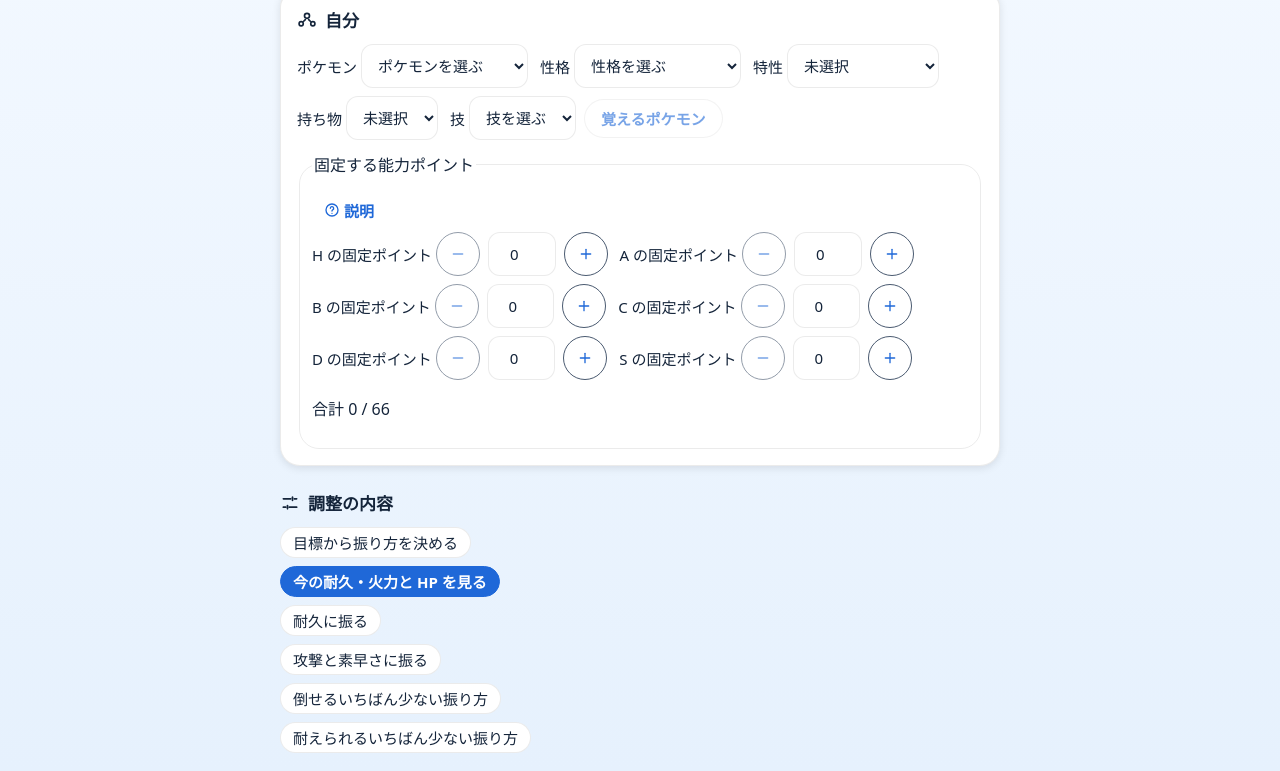
Test: G3 送信前の検査(API を呼ばず role=alert で理由) › 自分のポケモン・性格の検査は従来どおり先に出る
The image size is (1280, 771).
Click the radio button labelled "目標から振り方を決める" at x=376, y=542, box 280,527 -> 471,558
(page scrolled)
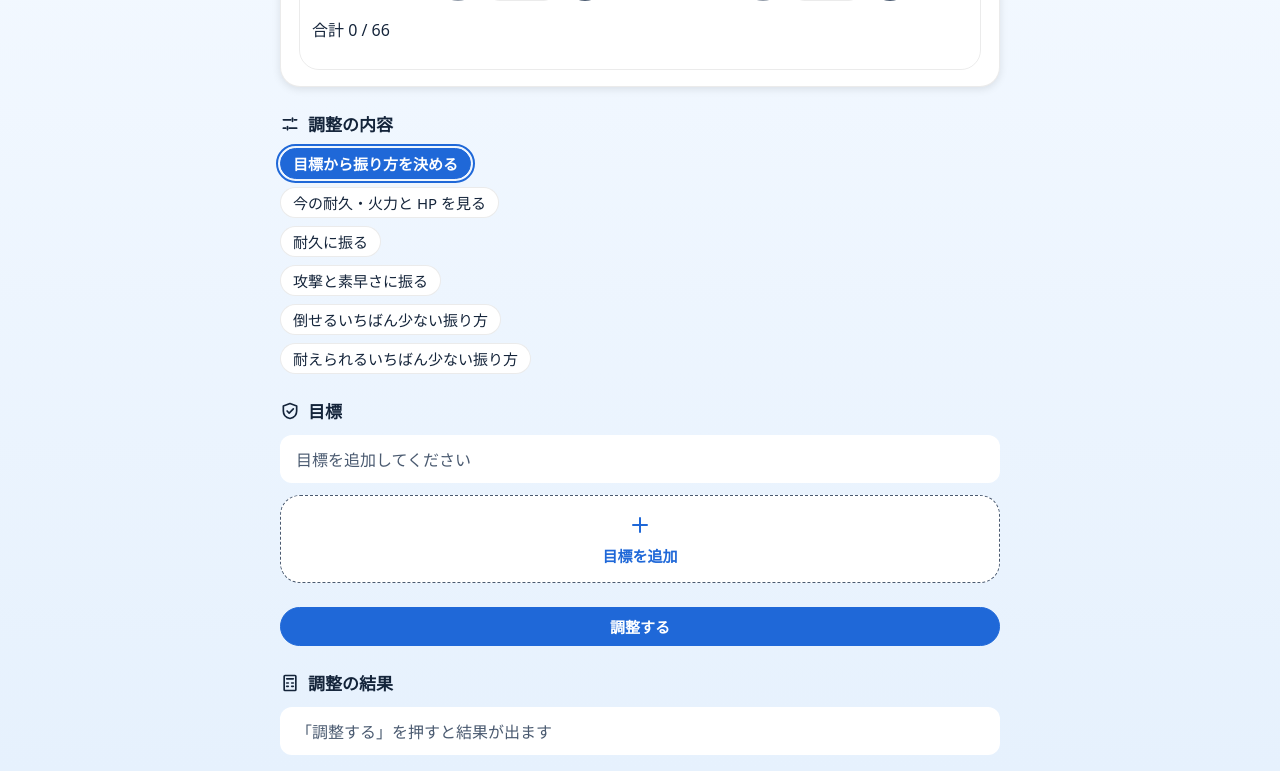
Click the button "調整する" at x=640, y=626, box 280,607 -> 1000,646
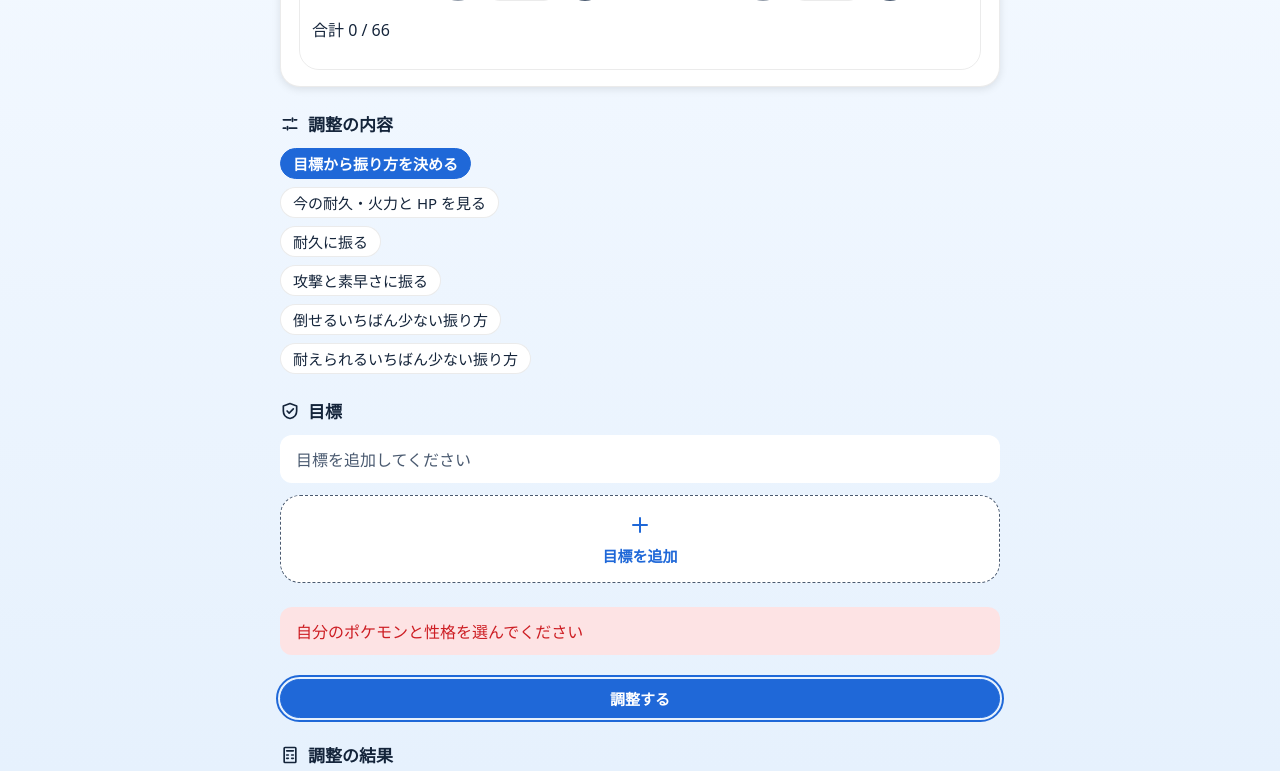
Expected: the message reads "自分のポケモンと性格を選んでください", 296,621 -> 583,643
